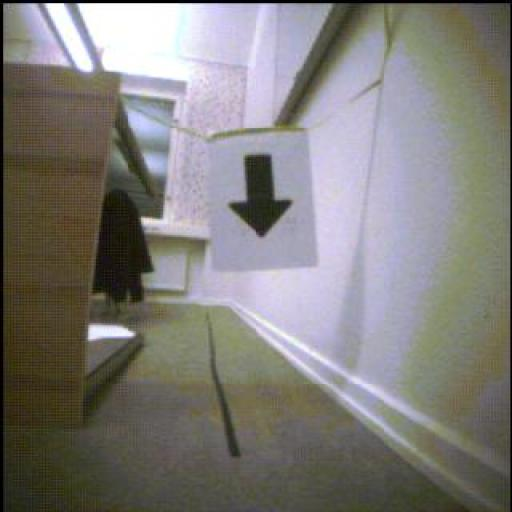Arrow: (230, 156, 294, 238)
